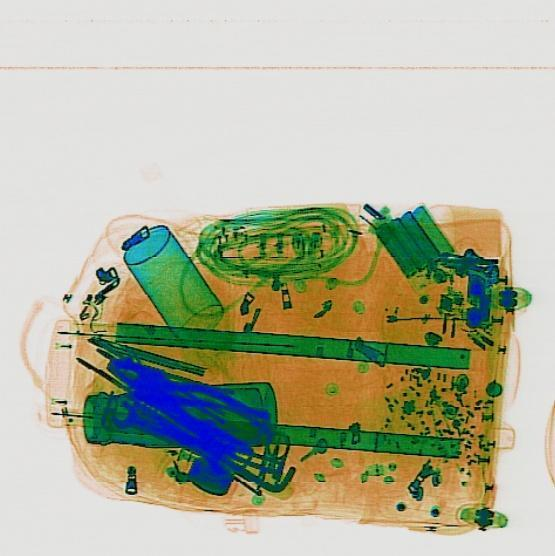Pliers: (93, 339, 274, 458)
Wrench: (105, 394, 208, 461)
